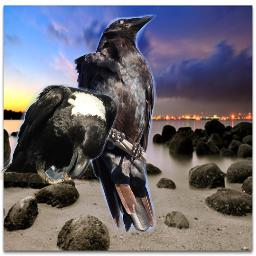Crow: (73, 13, 157, 232), (0, 82, 119, 187)
